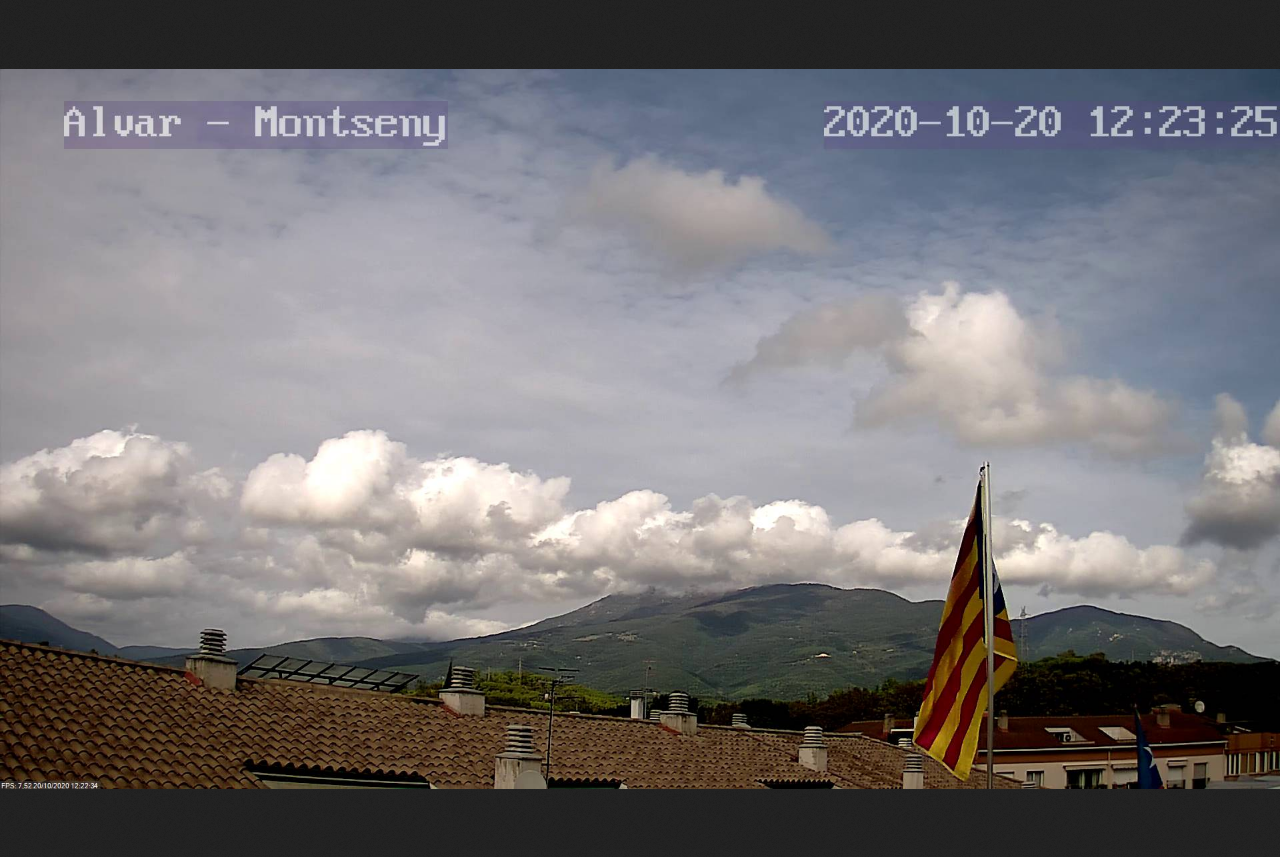no: (895, 463, 1025, 780)
